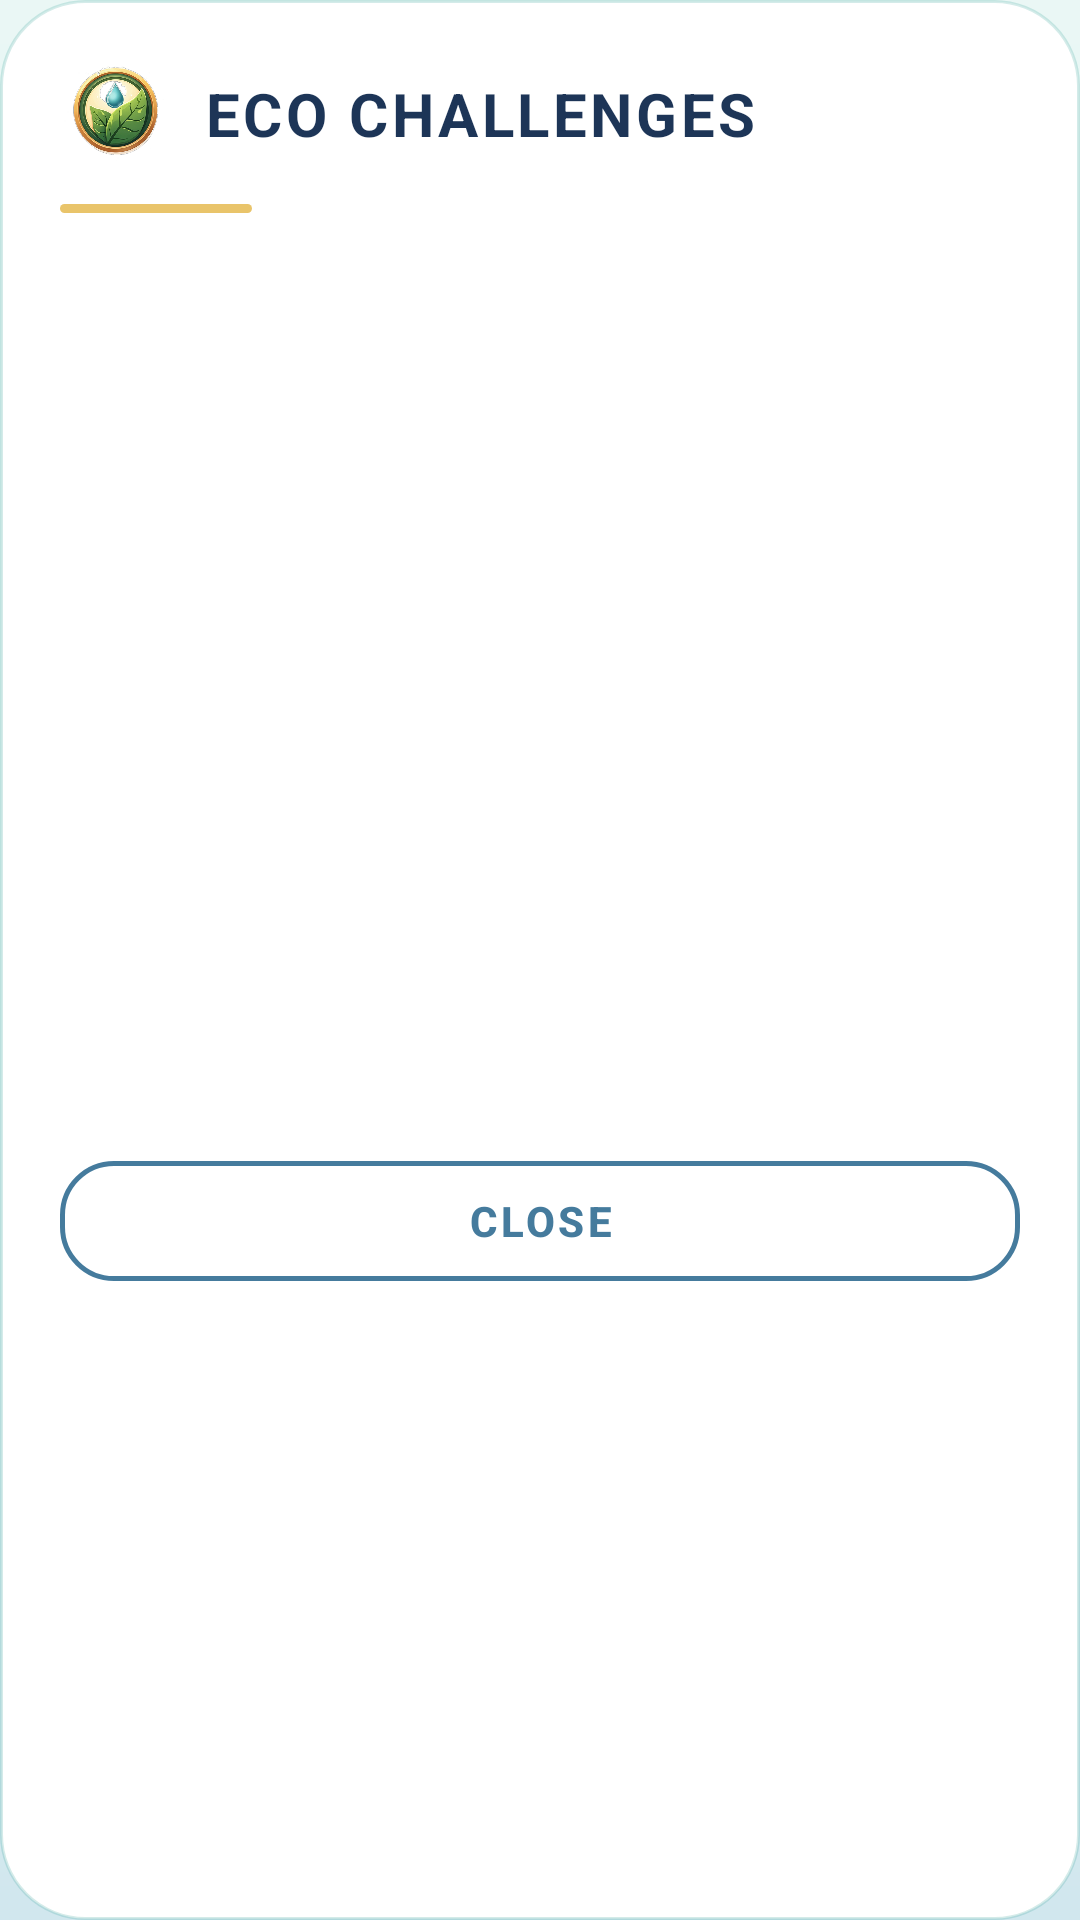

Point at icon controls on the screen. Image size 1080w x 1920h, points as point (x, y).
Eco challenge badge: point (115, 111)
